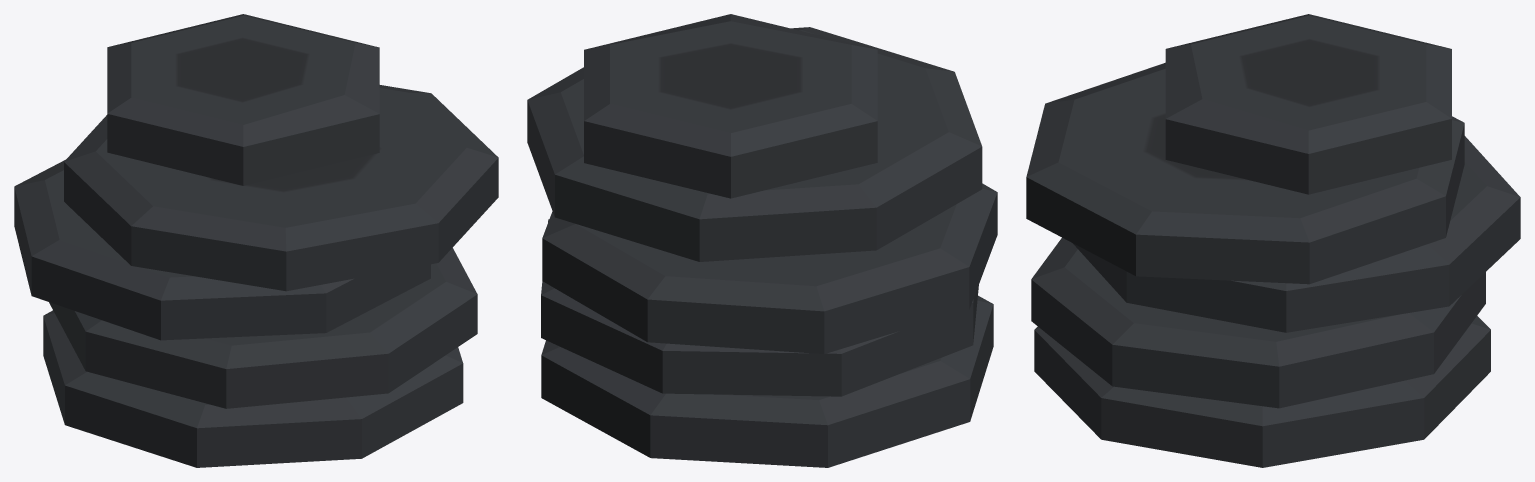
File: SM_Prop_Gym_Weight_Stack_01.fbx
The picture shows the model from 3 angles, left to right: view 1: azimuth 30°, elevation 25°; view 2: azimuth 150°, elevation 25°; view 3: azimuth 270°, elevation 25°; orthographic projection. The views are drawn at different scales.
Visible parts, largest first — view 1: SM_Prop_Gym_Weight_Stack_01; view 2: SM_Prop_Gym_Weight_Stack_01; view 3: SM_Prop_Gym_Weight_Stack_01.
Boxes of the visible parts, x1,y1,x2,y2 form: SM_Prop_Gym_Weight_Stack_01: (14, 14, 498, 467); SM_Prop_Gym_Weight_Stack_01: (527, 14, 997, 467); SM_Prop_Gym_Weight_Stack_01: (1026, 14, 1520, 467).
Bounding box in the file's own units: 43.54 × 30.82 × 43.78.
